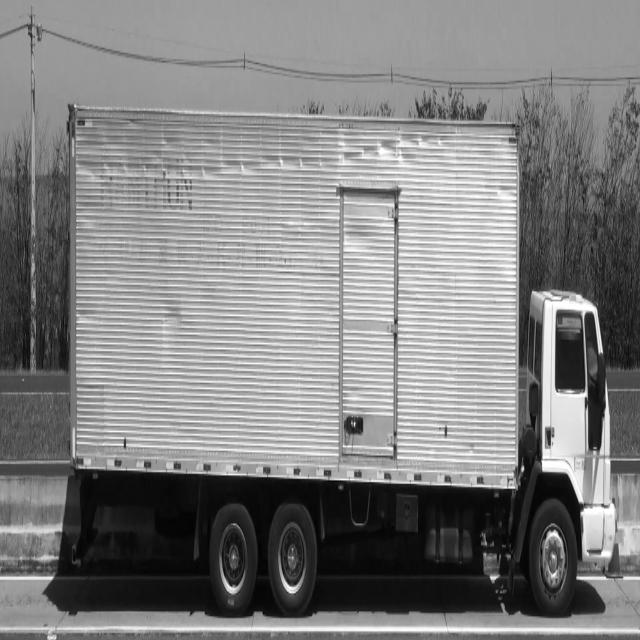Pole: (29, 6, 36, 372)
Truck: (70, 109, 615, 618)
